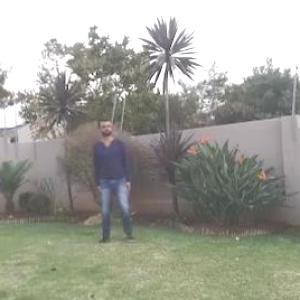follow: (94, 110, 133, 243)
